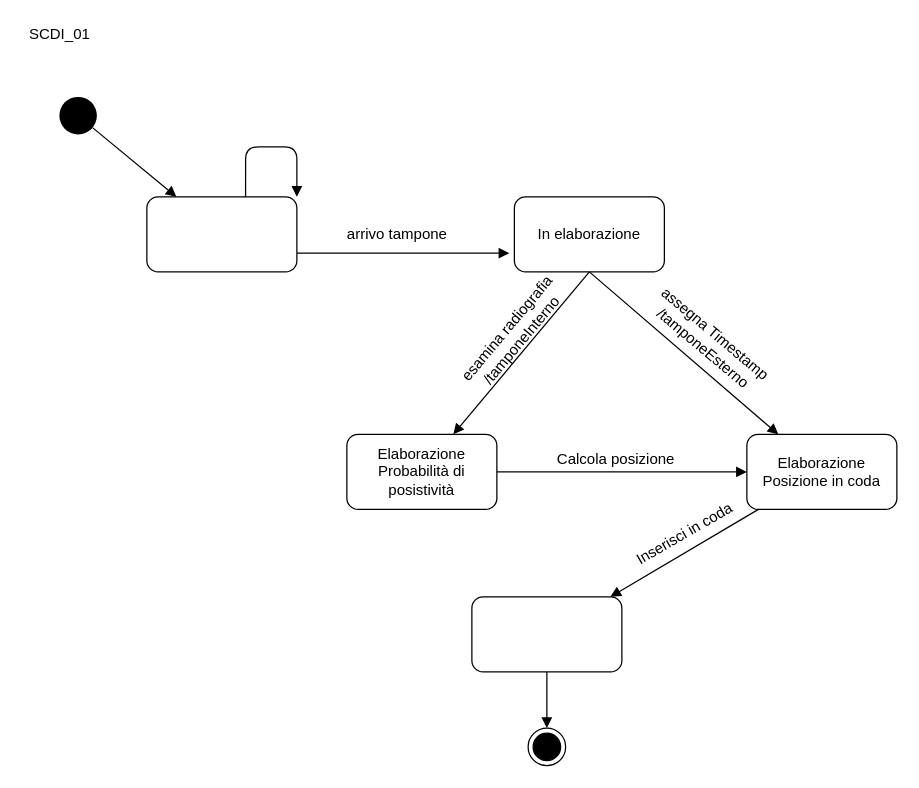
Image size: 919x788. Some labels were removed from this diagram. Each missing label, with the centre of its shape:
"In attesa" belongs at point (221, 234).
"Tampone aggiunto in coda" belongs at point (546, 634).
